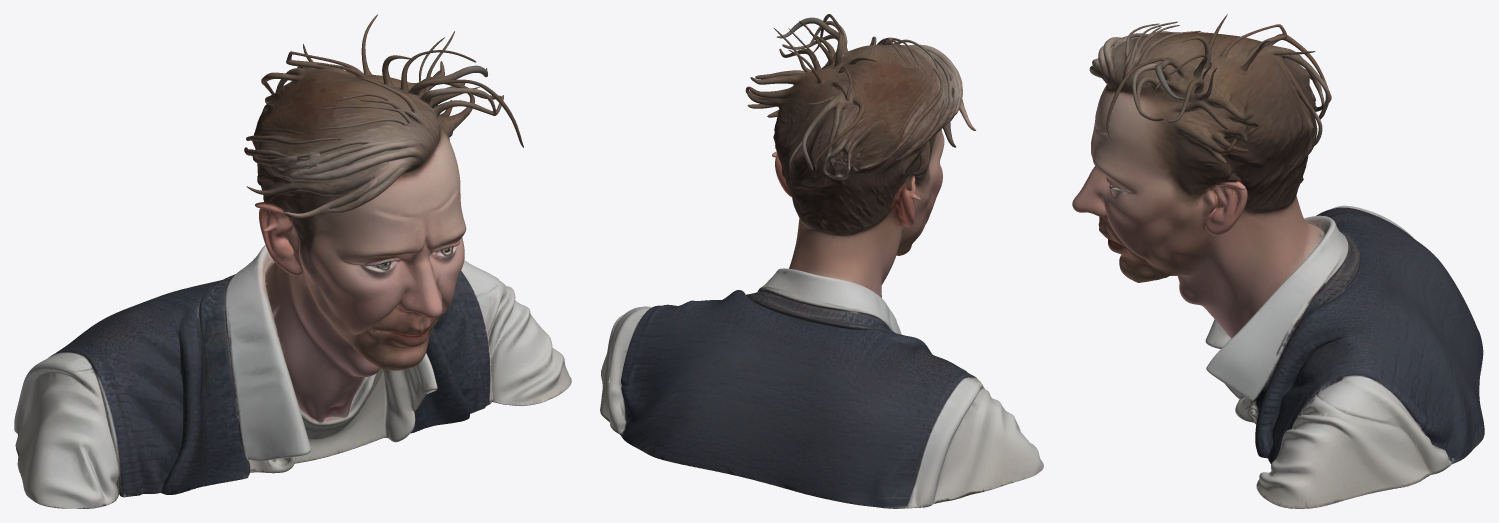
Rendered from Harabara-optimized.glb.
3 views of the same model, side by side, from view 1: azimuth 30°, elevation 25°; view 2: azimuth 150°, elevation 25°; view 3: azimuth 270°, elevation 25° (orthographic). The views are drawn at different scales.
Parts seen in each view (by area): view 1: texture_pbr_v128; view 2: texture_pbr_v128; view 3: texture_pbr_v128.
Boxes of the visible parts, x1,y1,x2,y2 form: texture_pbr_v128: (14, 14, 571, 508); texture_pbr_v128: (600, 14, 1043, 508); texture_pbr_v128: (1072, 14, 1484, 508).
Size of the model in its own units: 0.952 by 0.7229 by 0.7131.
Materials: 1 (1 with a texture image).
